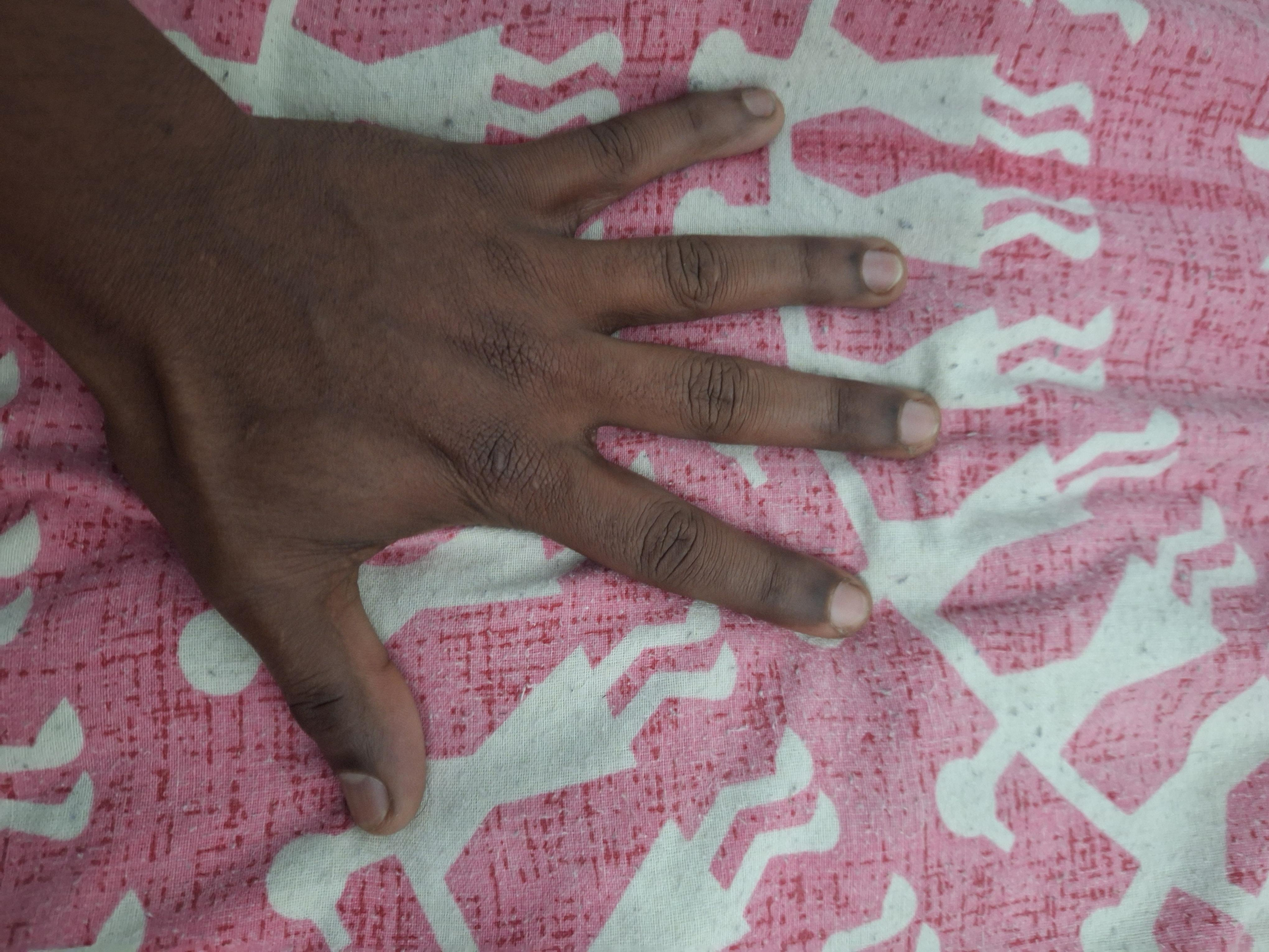Fingernail: (339, 774, 389, 831), (900, 399, 939, 446), (830, 583, 869, 628), (863, 250, 902, 294), (742, 89, 775, 117)
